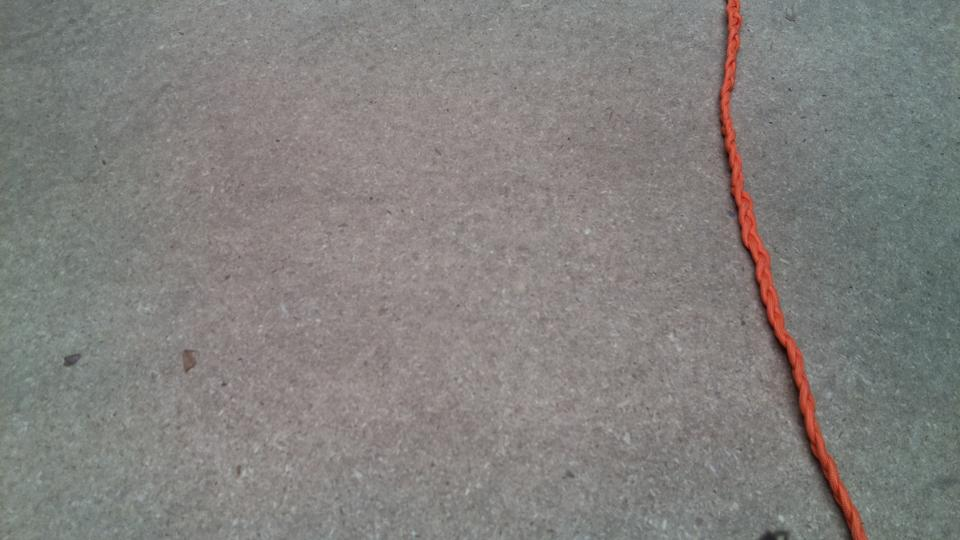rope: (712, 1, 866, 538)
